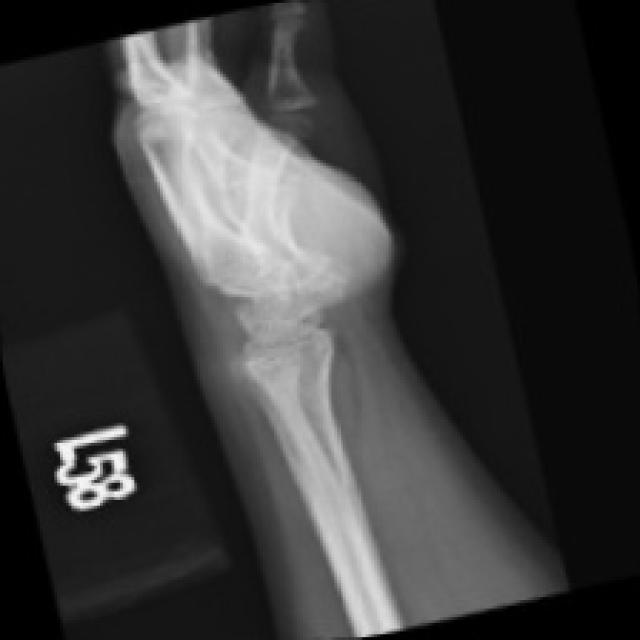fracture: (239, 50, 357, 168)
